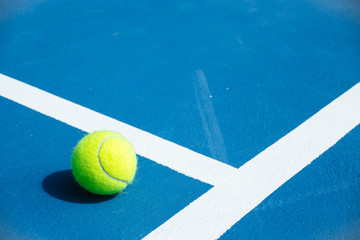tennis_ball: (67, 130, 137, 198)
